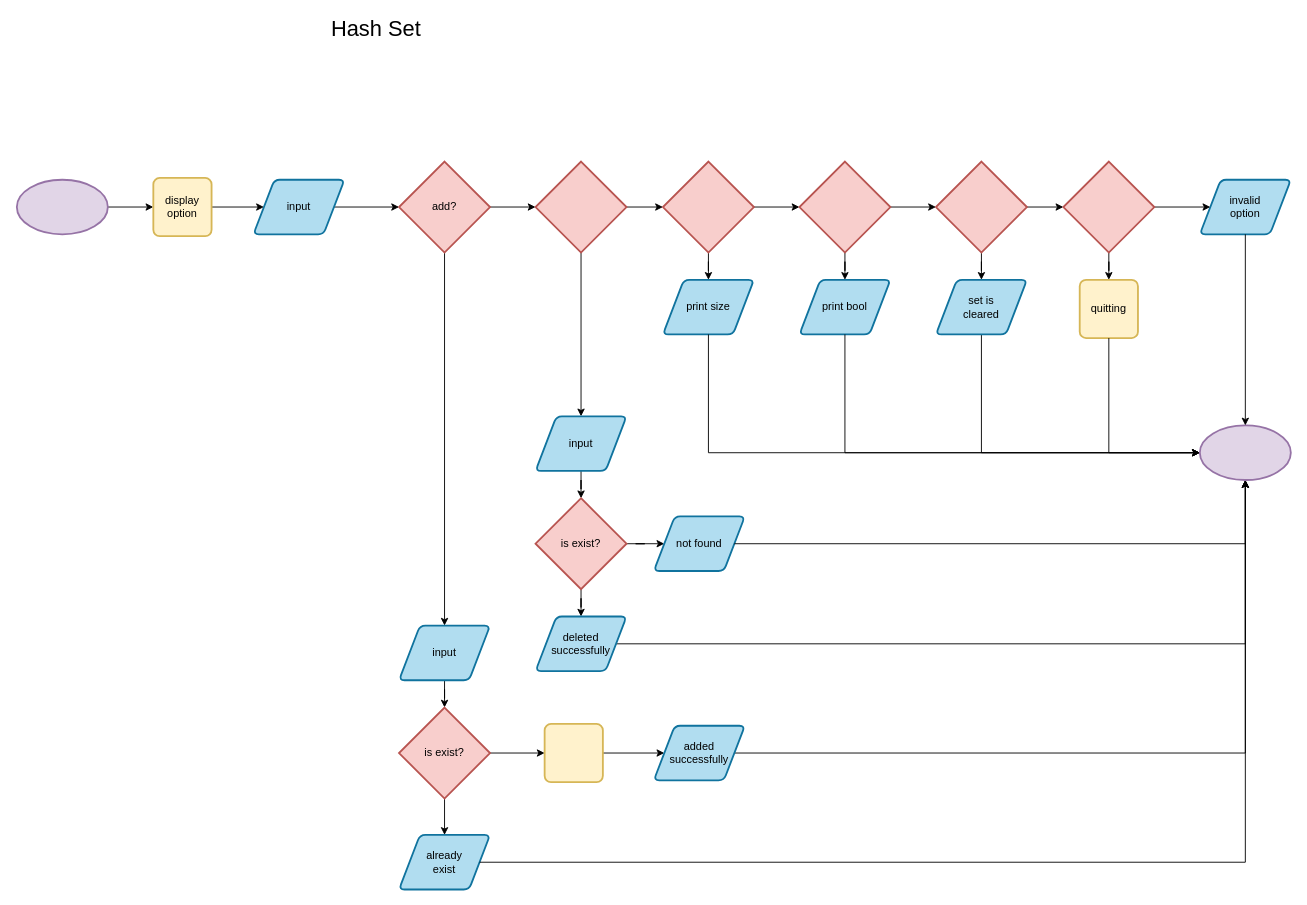
This 1307x905 diagram has some shape labels left out. Each missing label, with the centre of its shape:
"added to set" belongs at point 573,753.
"clear?" belongs at point 981,206.
"delete?" belongs at point 580,206.
"end" belongs at point 1244,452.
"exit?" belongs at point 1108,206.
"is empty?" belongs at point 844,206.
"size?" belongs at point 708,206.
"start" belongs at point 61,206.
